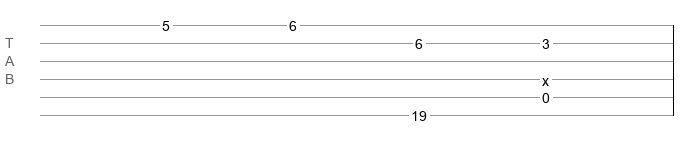0: (542, 90, 550, 100)
19: (411, 108, 427, 118)
3: (542, 36, 550, 46)
5: (162, 18, 170, 28)
6: (289, 18, 297, 28), (415, 36, 423, 46)
x: (542, 73, 549, 81)
